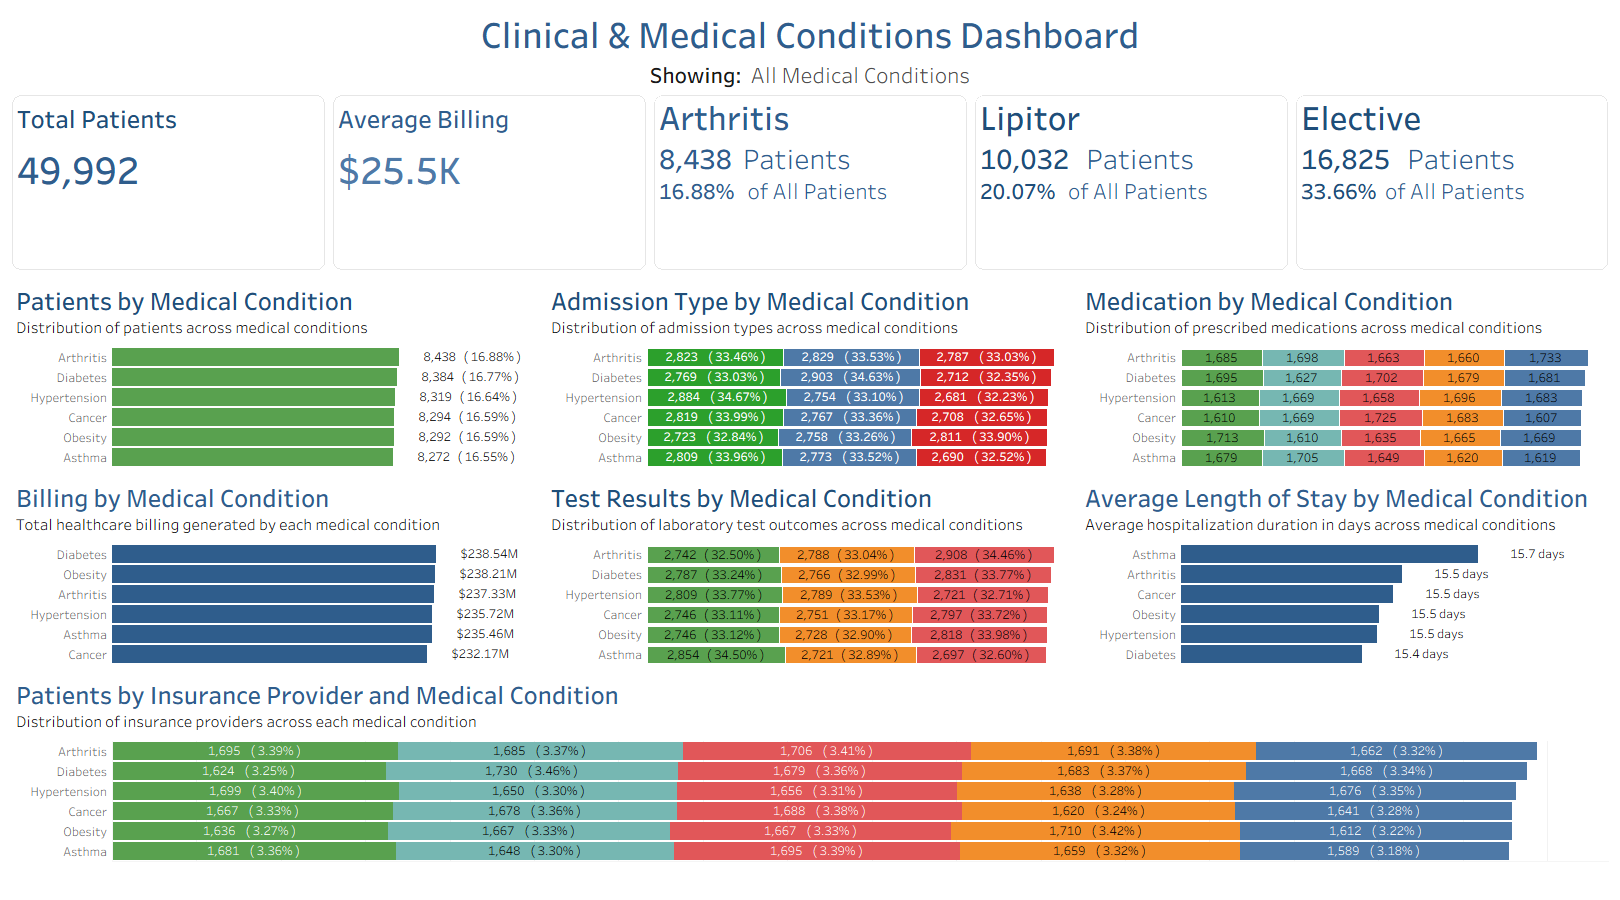

The dashboard page shown, as its layout file describes it:
{"tool":"tableau","page":{"name":"Clinical & Medical Conditions Dashboard","canvas":[1620,900],"ordinal":0},"visuals":[{"type":"blank","box":[8,8,1604,2]},{"type":"text","box":[8,10,1604,48]},{"type":"text","box":[8,58,1604,33]},{"type":"worksheet","title":"KPI_Total_Patients","mark":"Automatic","box":[8,91,321,183]},{"type":"worksheet","title":"KPI_Average_Billing_V2","mark":"Automatic","box":[329,91,321,183]},{"type":"worksheet","title":"KPI_Top_Medical_Condition_Result","mark":"Automatic","rows":["medical_condition"],"box":[650,91,321,183]},{"type":"worksheet","title":"KPI_Top_Medication","mark":"Automatic","rows":["medication"],"box":[971,91,321,183]},{"type":"worksheet","title":"KPI_Top_Admission_Type","mark":"Automatic","rows":["admission_type"],"box":[1292,91,320,183]},{"type":"worksheet","title":"CH_Medical_Condition_Distribution","mark":"Bar","rows":["medical_condition"],"cols":["patient_name"],"box":[8,274,534.7,197]},{"type":"worksheet","title":"CH_Admission_Type_by_Condition","mark":"Bar","rows":["medical_condition"],"cols":["patient_name"],"box":[542.7,274,534.7,197]},{"type":"worksheet","title":"CH_Medication_by_Medical_Condition","mark":"Bar","rows":["medical_condition"],"cols":["patient_name"],"box":[1077.3,274,534.7,197]},{"type":"worksheet","title":"CH_Billing_by_Medical_Condition","mark":"Bar","rows":["medical_condition"],"cols":["billing_amount"],"box":[8,471,534.7,197]},{"type":"worksheet","title":"CH_Test_Result_by_Medical_Condition","mark":"Bar","rows":["medical_condition"],"cols":["patient_name"],"box":[542.7,471,534.7,197]},{"type":"worksheet","title":"CH_Length_of_Stay_by_Medical_Condition","mark":"Automatic","rows":["medical_condition"],"cols":["Calculation_0555557540478979"],"box":[1077.3,471,534.7,197]},{"type":"worksheet","title":"CH_Insurance_Provider_by_Medical_Condition","mark":"Automatic","rows":["medical_condition"],"cols":["patient_name"],"box":[8,668,1604,197]}]}

Visuals, with their boxes in screenshot pixels (x1, y1, x2, y2), scaled from the page's 1620x900 canvas onto the 1620x900 screenshot:
blank: box=[8, 8, 1612, 10]
text: box=[8, 10, 1612, 58]
text: box=[8, 58, 1612, 91]
"KPI_Total_Patients" worksheet: box=[8, 91, 329, 274]
"KPI_Average_Billing_V2" worksheet: box=[329, 91, 650, 274]
"KPI_Top_Medical_Condition_Result" worksheet: box=[650, 91, 971, 274]
"KPI_Top_Medication" worksheet: box=[971, 91, 1292, 274]
"KPI_Top_Admission_Type" worksheet: box=[1292, 91, 1612, 274]
"CH_Medical_Condition_Distribution" worksheet (Bar marks): box=[8, 274, 543, 471]
"CH_Admission_Type_by_Condition" worksheet (Bar marks): box=[543, 274, 1077, 471]
"CH_Medication_by_Medical_Condition" worksheet (Bar marks): box=[1077, 274, 1612, 471]
"CH_Billing_by_Medical_Condition" worksheet (Bar marks): box=[8, 471, 543, 668]
"CH_Test_Result_by_Medical_Condition" worksheet (Bar marks): box=[543, 471, 1077, 668]
"CH_Length_of_Stay_by_Medical_Condition" worksheet: box=[1077, 471, 1612, 668]
"CH_Insurance_Provider_by_Medical_Condition" worksheet: box=[8, 668, 1612, 865]
